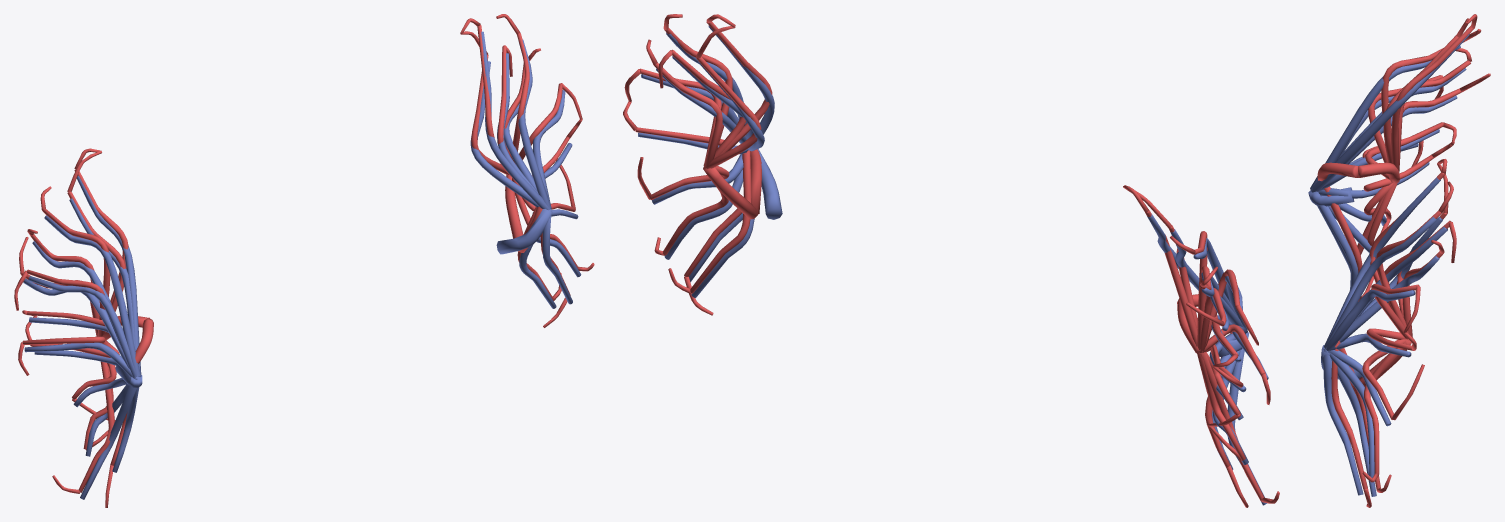
The model's file is anatomyverse-renal-vessels.glb.
3 renders of one model, left to right at view 1: azimuth 30°, elevation 25°; view 2: azimuth 150°, elevation 25°; view 3: azimuth 270°, elevation 25°, orthographic. The views are drawn at different scales.
Parts seen in each view (by area): view 1: gv_intrarenal_vein_r, gv_intrarenal_vein_l, gv_intrarenal_art_r, gv_intrarenal_art_l; view 2: gv_intrarenal_art_l, gv_intrarenal_art_r, gv_intrarenal_vein_l, gv_intrarenal_vein_r, gv_segart_post_l; view 3: gv_intrarenal_vein_l, gv_intrarenal_art_r, gv_intrarenal_art_l, gv_intrarenal_vein_r, gv_segart_post_r, gv_segart_ant_r, gv_segart_post_l.
Part boxes in pixels (x1,y1,x2,y2): gv_intrarenal_vein_r: (23,176,142,499); gv_intrarenal_vein_l: (470,31,581,308); gv_intrarenal_art_r: (14,148,128,507); gv_intrarenal_art_l: (460,14,594,327); gv_intrarenal_art_l: (623,14,772,315); gv_intrarenal_art_r: (1123,185,1279,507); gv_intrarenal_vein_l: (638,25,782,297); gv_intrarenal_vein_r: (1147,214,1268,505); gv_segart_post_l: (703,167,757,219); gv_intrarenal_vein_l: (1321,177,1447,496); gv_intrarenal_art_r: (1324,14,1490,301); gv_intrarenal_art_l: (1331,159,1456,507); gv_intrarenal_vein_r: (1308,34,1469,290); gv_segart_post_r: (1358,162,1399,183); gv_segart_ant_r: (1317,162,1358,181); gv_segart_post_l: (1354,339,1411,393).
Bounding box in the file's own units: 0.1773 × 0.1083 × 0.0452.
